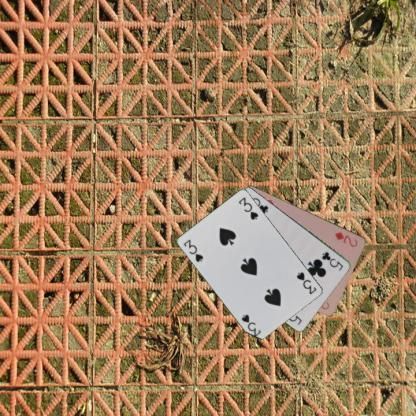2d: (332, 228, 360, 249)
3s: (181, 236, 205, 264), (294, 269, 318, 296)
5c: (320, 249, 344, 272)
